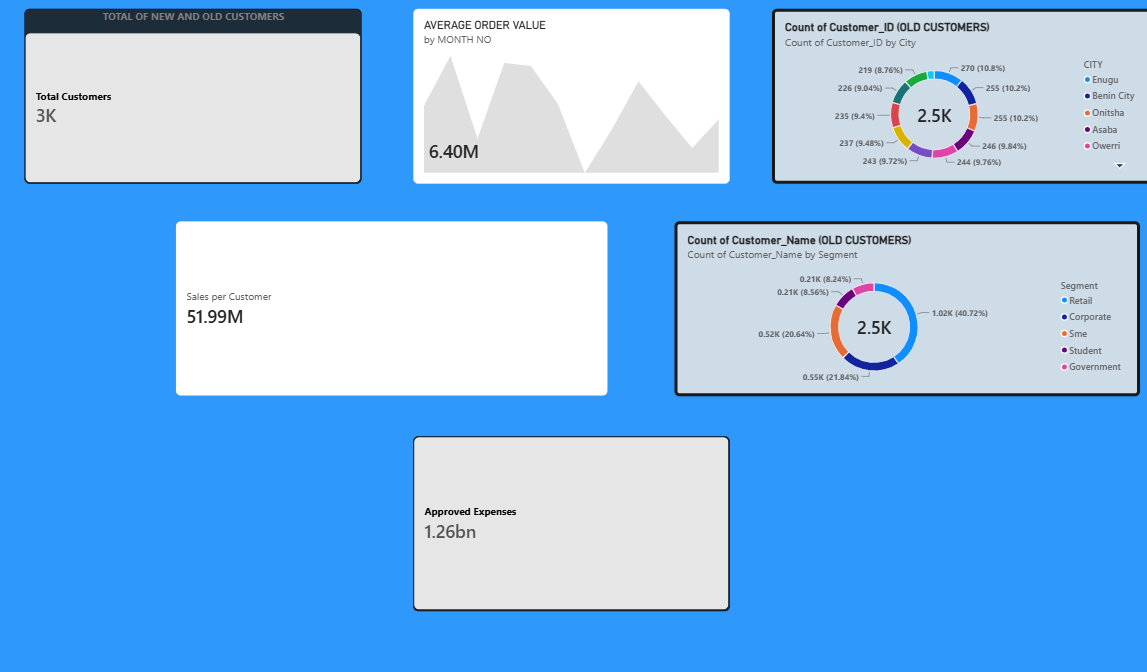

This screenshot's page, from the dashboard's own definition file:
{"tool":"powerbi","page":{"name":"CUSTOMER DASHBOARD ","canvas":[1920,1080],"ordinal":2},"visuals":[{"type":"kpi","fields":{"Indicator":["DATE.AVERAGE ORDER VALUE"],"TrendLine":["DATE.MONTH NO"]},"box":[666.9,14.4,506.3,279.9],"z":0},{"type":"donutChart","fields":{"Category":["Dim_Customers.City"],"Y":["CountNonNull(Dim_Customers.Customer_ID)"]},"box":[1239.1,14.4,634,279.9],"z":1000},{"type":"donutChart","fields":{"Category":["Dim_Customers.Segment"],"Y":["CountNonNull(Dim_Customers.Customer_Name)"]},"box":[1084.7,354,745.1,279.9],"z":2000},{"type":"cardVisual","fields":{"Data":["DATE.Approved Expenses"]},"box":[666.9,697.8,506.3,279.9],"z":3000},{"type":"cardVisual","fields":{"Data":["DATE.Total Customers"]},"box":[43.2,14.4,539.3,279.9],"z":4000},{"type":"cardVisual","fields":{"Data":["Check_Duplicates.Sales per Customer"]},"box":[286.1,354,691.6,279.9],"z":4001}]}

Visuals, with their boxes in screenshot pixels (x1, y1, x2, y2):
kpi - DATE.AVERAGE ORDER VALUE x DATE.MONTH NO: <box>416,12,726,183</box>
donutChart - Dim_Customers.City x CountNonNull(Dim_Customers.Customer_ID): <box>766,12,1146,183</box>
donutChart - Dim_Customers.Segment x CountNonNull(Dim_Customers.Customer_Name): <box>671,219,1127,390</box>
cardVisual - DATE.Approved Expenses: <box>416,429,726,600</box>
cardVisual - DATE.Total Customers: <box>35,12,365,183</box>
cardVisual - Check_Duplicates.Sales per Customer: <box>184,219,606,390</box>
